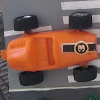naranja_este: (1, 11, 98, 86)
